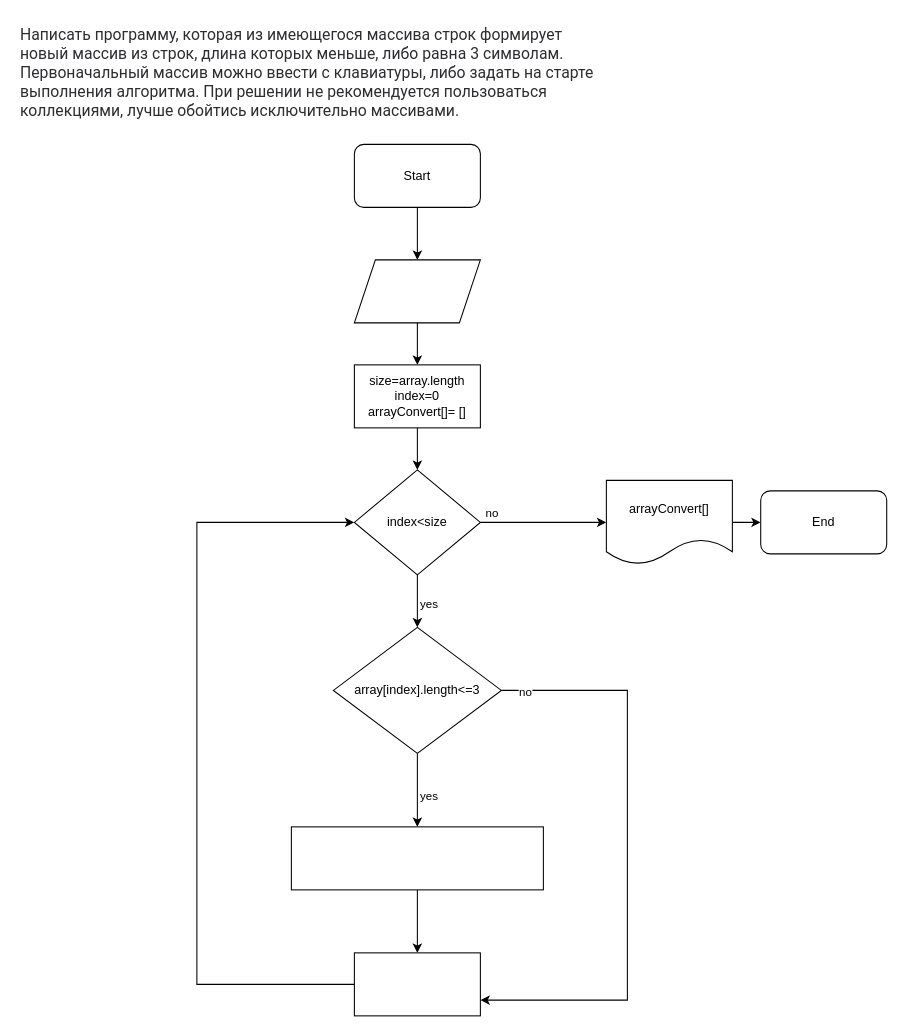
The diagram is 905 pixels wide and 1034 high, and some of its shapes have lost their labels. The shapes that lost their labels are listed below. From the top down, each one's centre as x and y in pixels, then its label:
At pixel 416 291: "array[]".
At pixel 416 858: "arrayConvert[].append(array[index])".
At pixel 416 984: "index=index+1".
